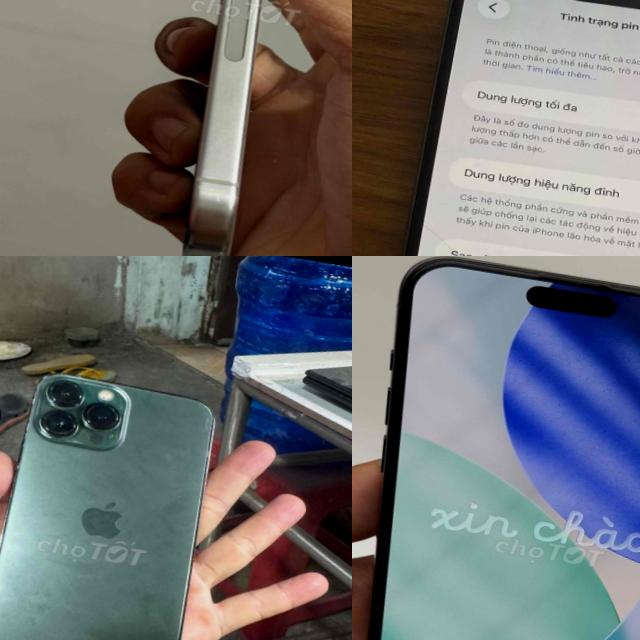gen_12_13: (360, 0, 640, 256), (0, 359, 225, 640)
gen_15: (352, 256, 640, 640), (126, 0, 352, 256)
